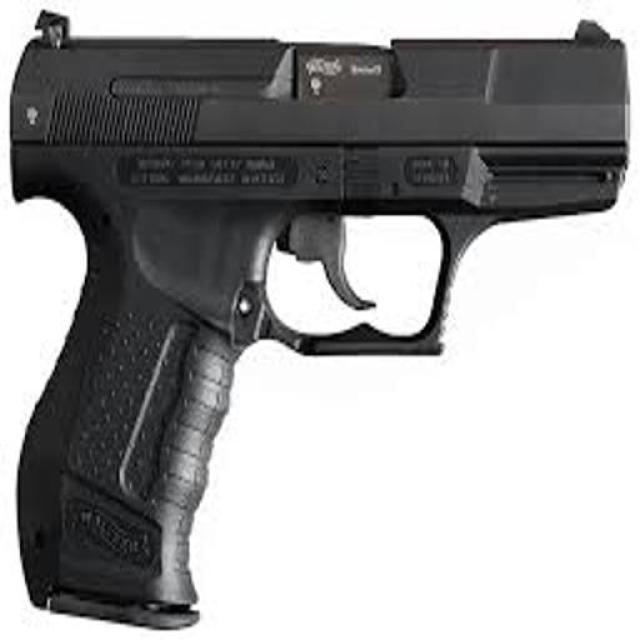pistol: (16, 12, 640, 632)
